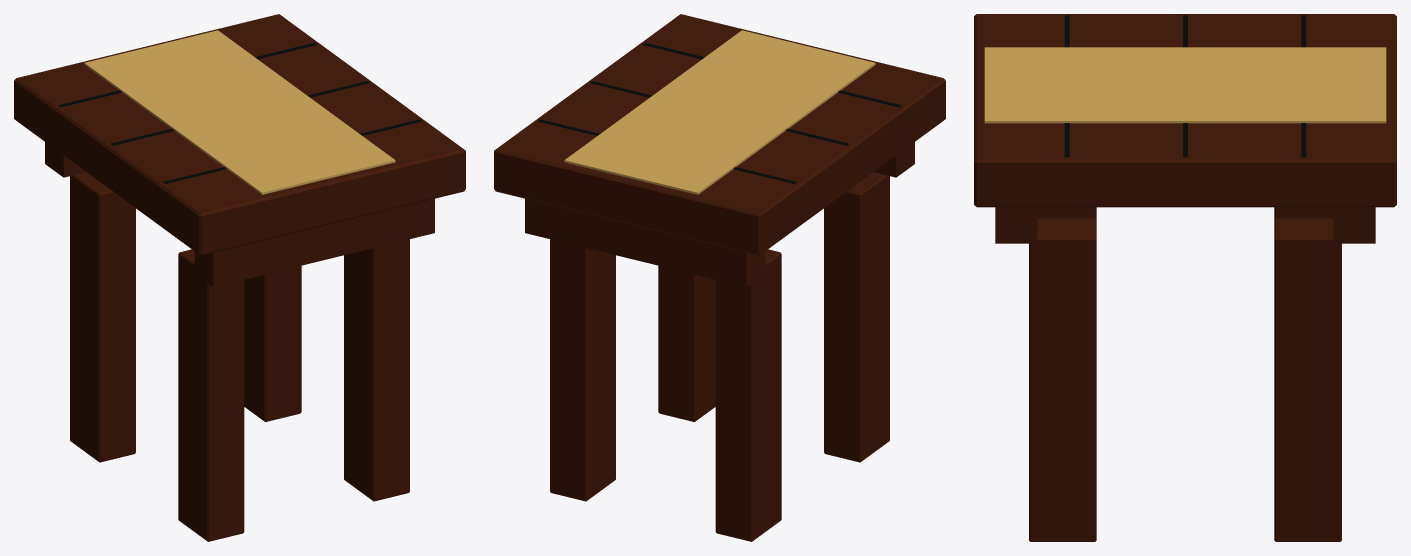
The model's file is panel_wood_table.fbx.
3 renders of one model, left to right at view 1: azimuth 30°, elevation 25°; view 2: azimuth 150°, elevation 25°; view 3: azimuth 270°, elevation 25°, orthographic. The views are drawn at different scales.
Visible parts, largest first — view 1: Part_0; view 2: Part_0; view 3: Part_0.
Part boxes in pixels (left/top/right/bottom): Part_0: left=14, top=14, right=465, bottom=541; Part_0: left=494, top=14, right=945, bottom=541; Part_0: left=974, top=14, right=1396, bottom=541.
Bounding box in the file's own units: 3.3 × 4.2 × 4.
